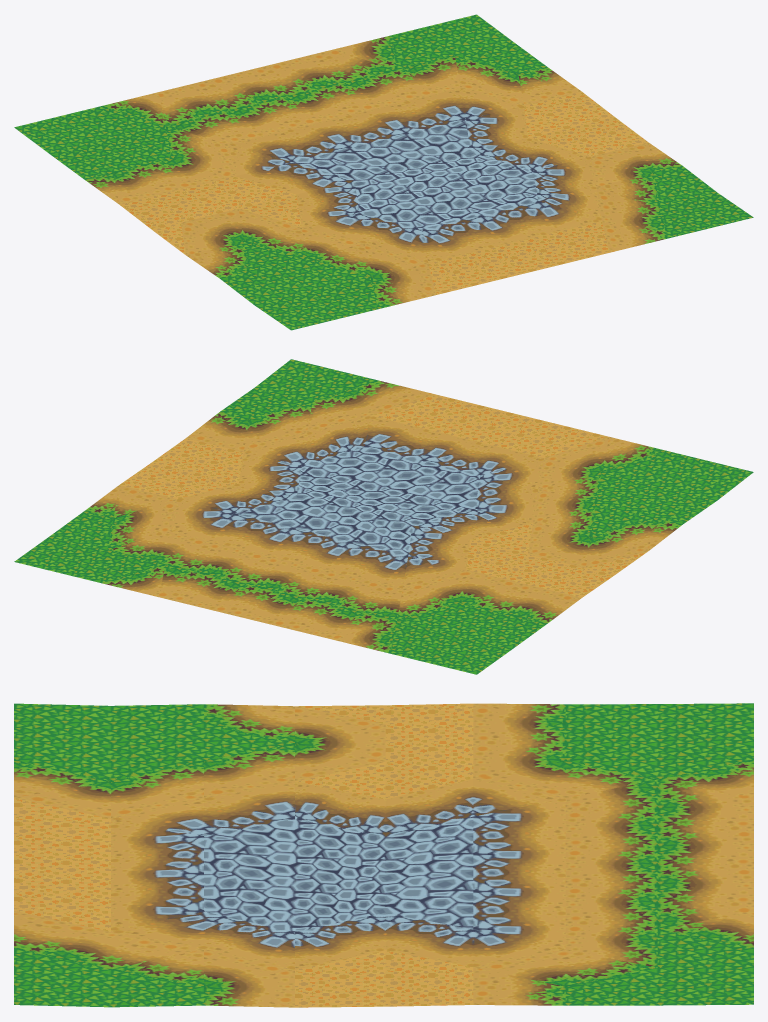
The model's file is c_grd_f_h_2.001.glb.
The picture shows the model from 3 angles, top to bottom: view 1: azimuth 30°, elevation 25°; view 2: azimuth 150°, elevation 25°; view 3: azimuth 270°, elevation 25°; orthographic projection. The views are drawn at different scales.
Visible parts, largest first — view 1: c_grd_f_h_2.001; view 2: c_grd_f_h_2.001; view 3: c_grd_f_h_2.001.
Boxes of the visible parts, bbox=[...] form: c_grd_f_h_2.001: bbox=[14, 14, 753, 330]; c_grd_f_h_2.001: bbox=[14, 359, 753, 674]; c_grd_f_h_2.001: bbox=[14, 703, 753, 1007].
Bounding box in the file's own units: 32 × 0.1406 × 33.2.
5 materials, 5 textured.
